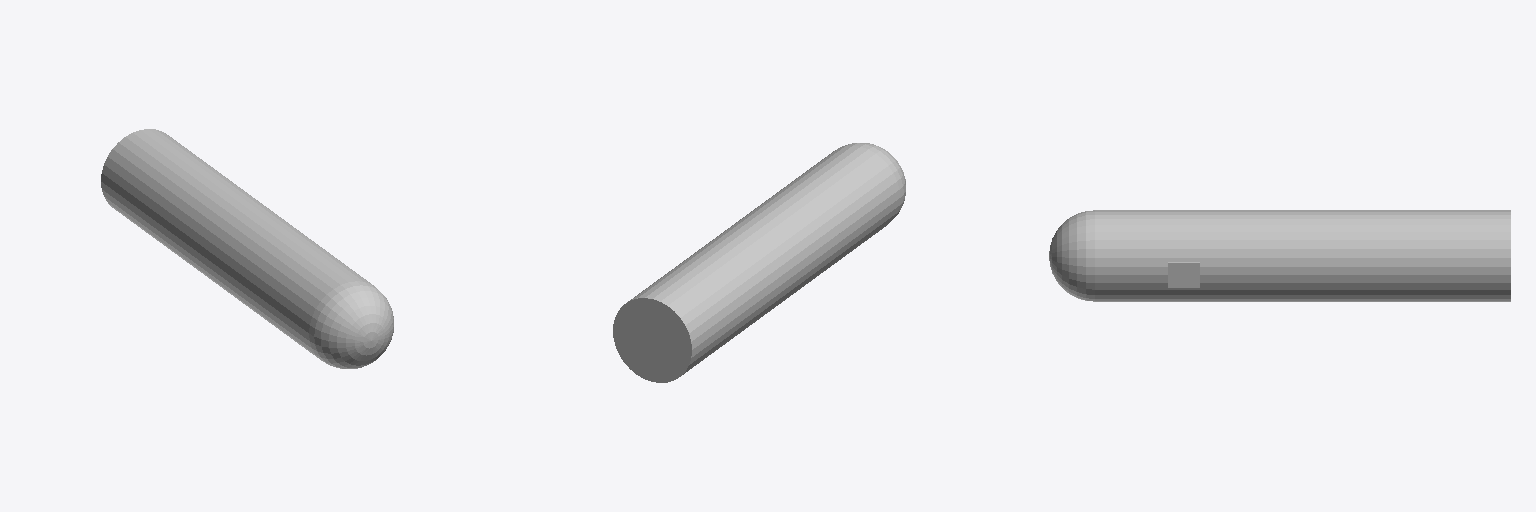
Rendered from silo.obj.
The picture shows the model from 3 angles: view 1: azimuth 30°, elevation 25°; view 2: azimuth 150°, elevation 25°; view 3: azimuth 270°, elevation 25°; orthographic projection.
Visible parts, largest first — view 1: obj_0; view 2: obj_0; view 3: obj_0.
Part boxes in pixels (x1,y1,x2,y2): obj_0: (101, 129, 393, 368); obj_0: (613, 143, 905, 382); obj_0: (1049, 210, 1510, 301).
Size of the model in its own units: 20 by 20 by 101.